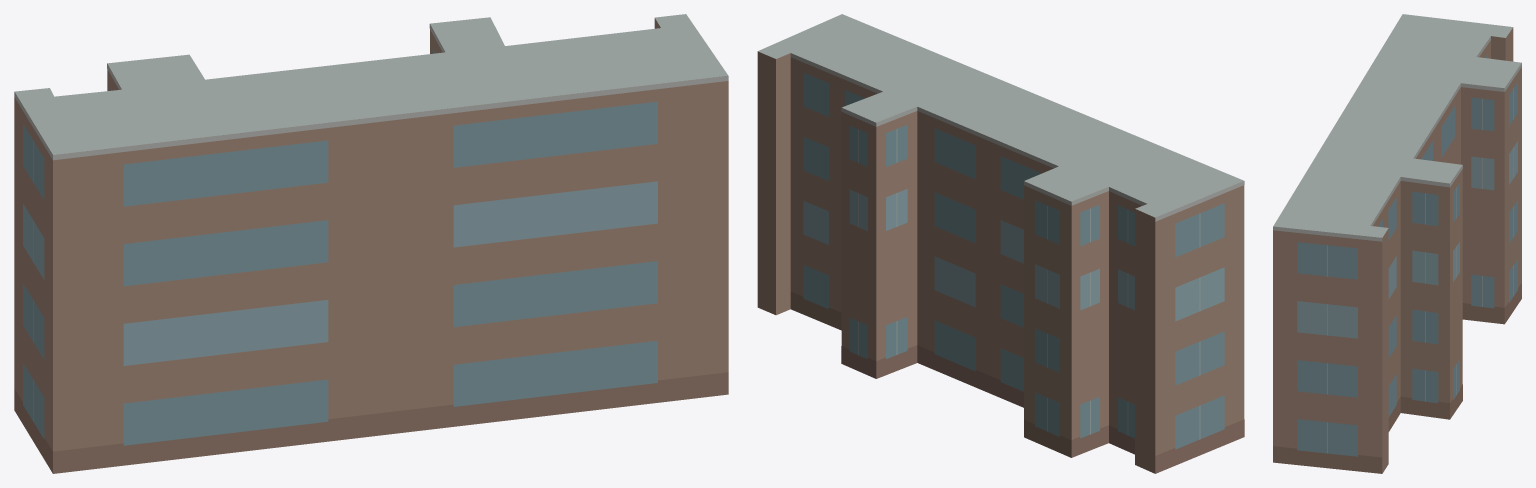
Rendered from survey-upis-32799652.glb.
3 views of the same model, side by side, from view 1: azimuth 30°, elevation 25°; view 2: azimuth 150°, elevation 25°; view 3: azimuth 270°, elevation 25° (orthographic). The views are drawn at different scales.
Parts seen in each view (by area): view 1: survey-upis-32799652.tmp; view 2: survey-upis-32799652.tmp; view 3: survey-upis-32799652.tmp.
Boxes of the visible parts, bbox=[...] form: survey-upis-32799652.tmp: bbox=[14, 14, 728, 473]; survey-upis-32799652.tmp: bbox=[757, 14, 1244, 473]; survey-upis-32799652.tmp: bbox=[1273, 14, 1521, 473].
Bounding box in the file's own units: 30.51 × 15 × 14.34.
